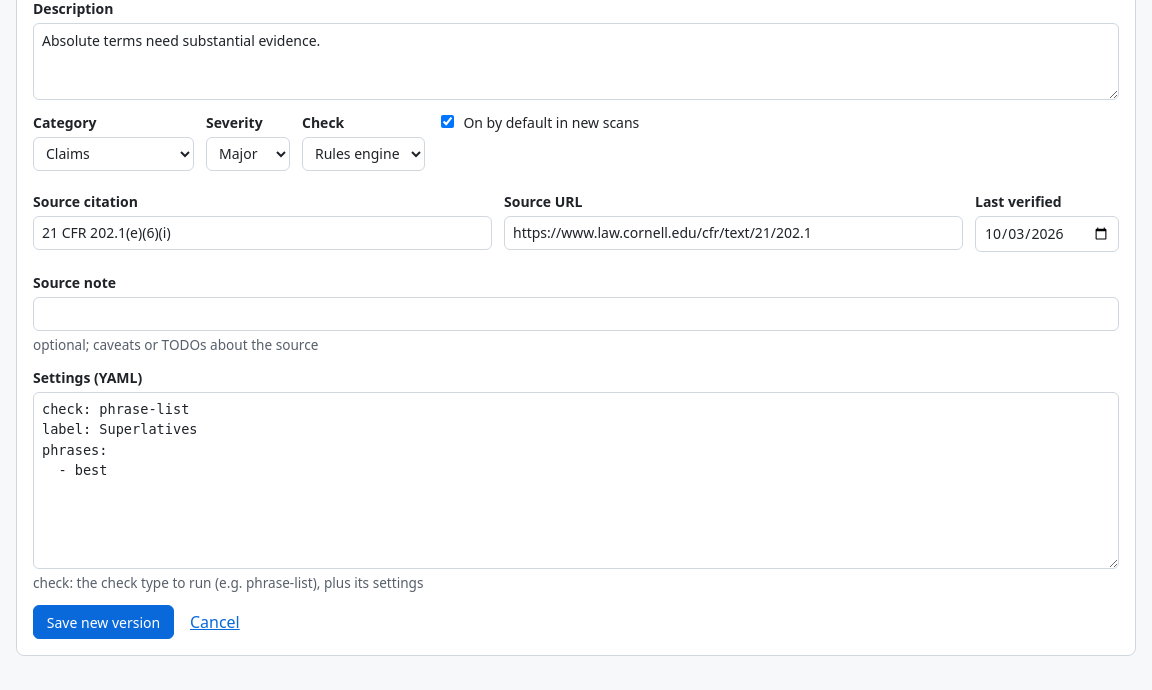
rule editing › catches invalid YAML before sending, and explains a conflicting save
(page scrolled)
Replace the text in the text box labelled "Settings (YAML)" with "- just a list" at (576, 481), box x1=33 y1=392 x2=1119 y2=569
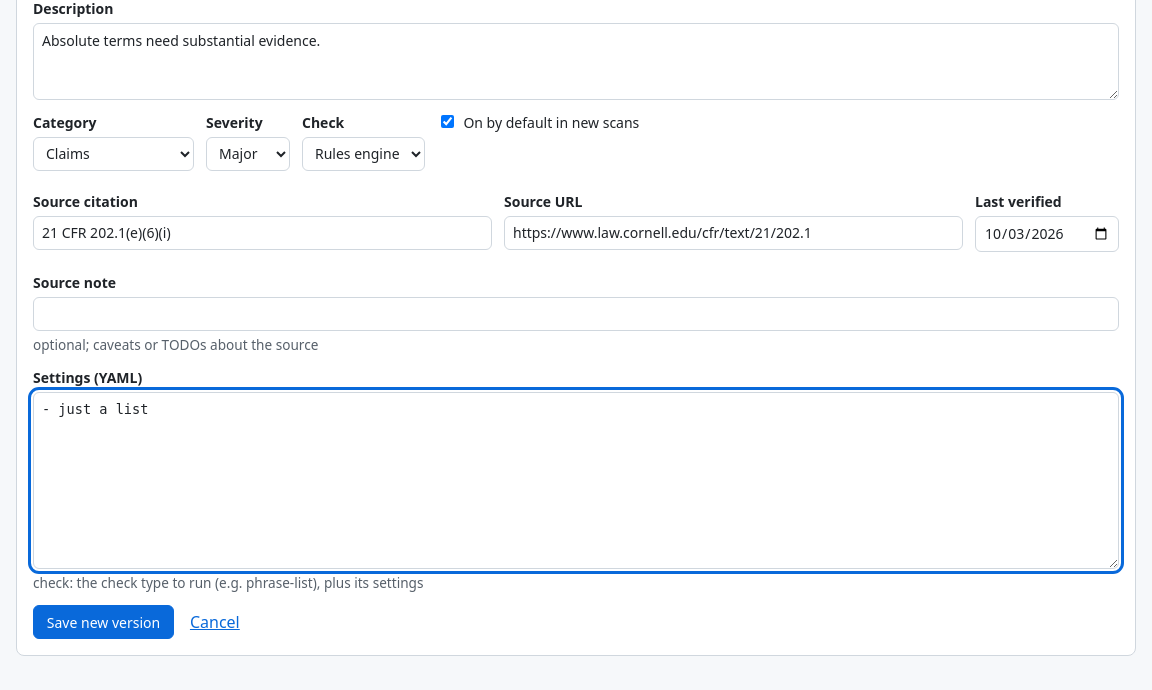
Click the button "Save new version" at (103, 622), box x1=33 y1=605 x2=174 y2=639
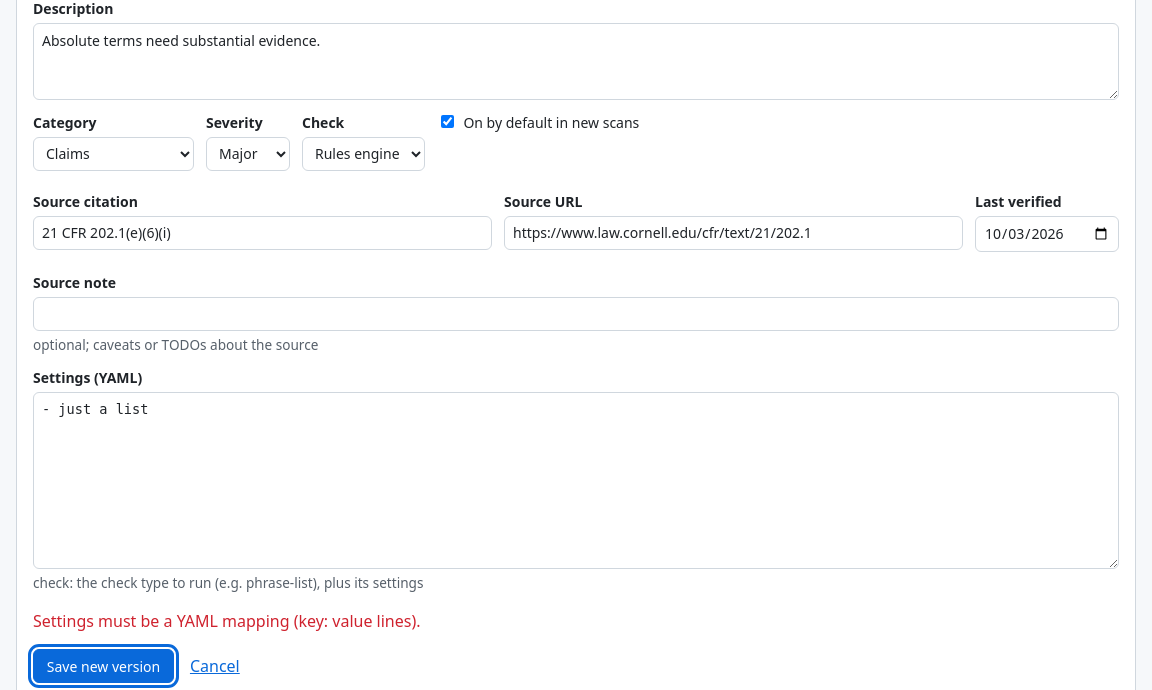
Check: the message shows "Settings must be a YAML mapping", box x1=33 y1=610 x2=420 y2=632
Replace the text in the text box labelled "Settings (YAML)" with "check: phrase-list" at (576, 481), box x1=33 y1=392 x2=1119 y2=569
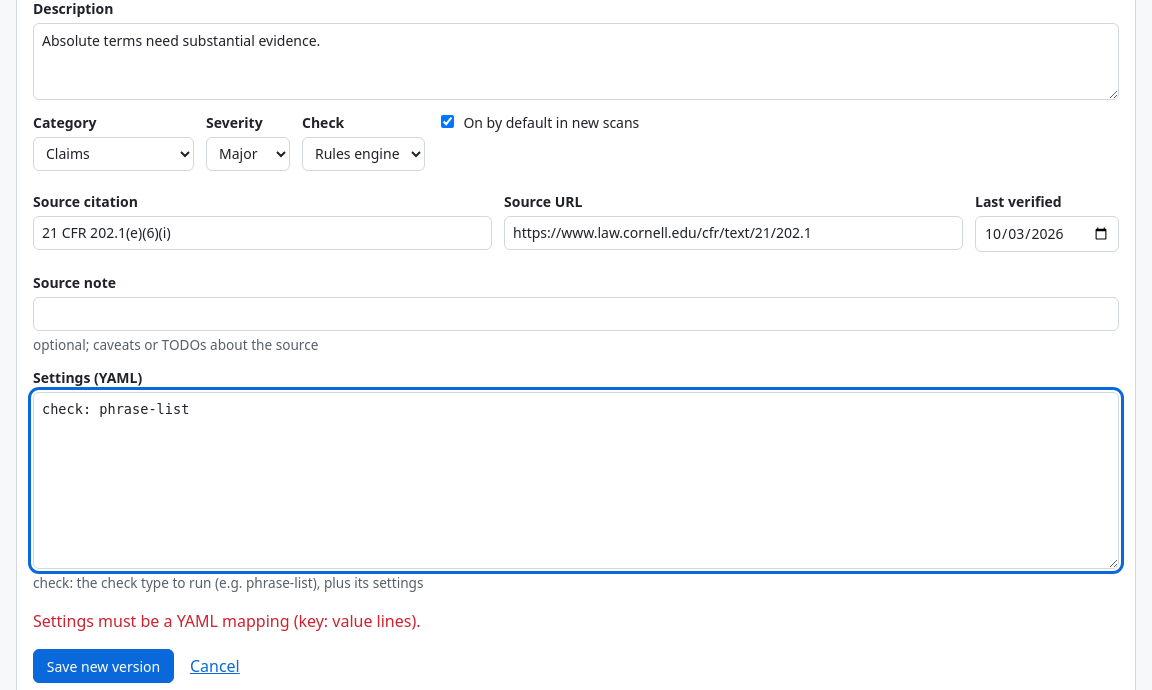
Click the button "Save new version" at (103, 666), box x1=33 y1=649 x2=174 y2=683
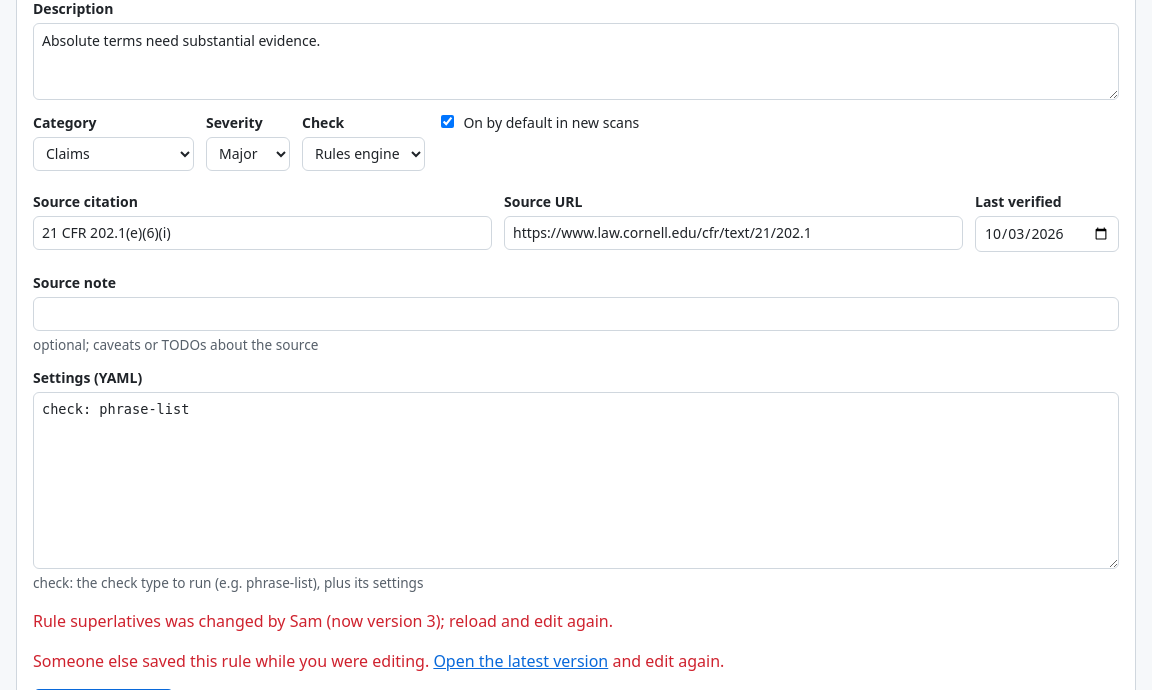
Check: the message shows "changed by Sam (now version 3)", box x1=33 y1=610 x2=613 y2=632
